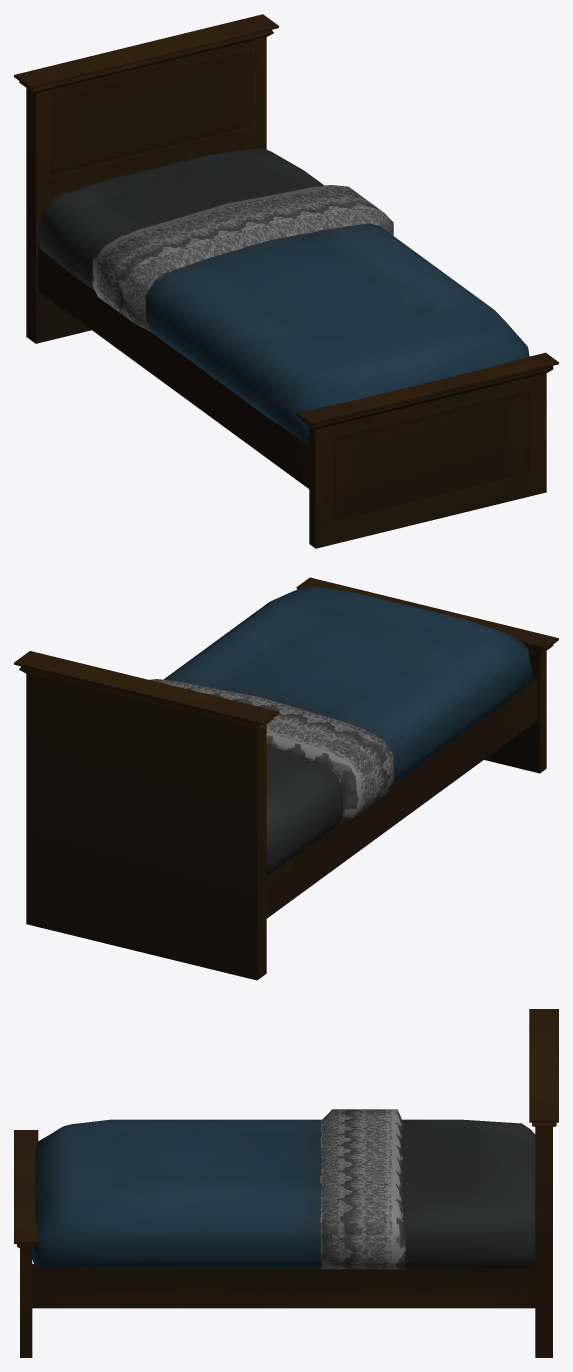
File: Single_Bed_1.fbx
The picture shows the model from 3 angles, top to bottom: view 1: azimuth 30°, elevation 25°; view 2: azimuth 150°, elevation 25°; view 3: azimuth 270°, elevation 25°; orthographic projection. The views are drawn at different scales.
Visible parts, largest first — view 1: Cube.005, Cube.001; view 2: Cube.005, Cube.001; view 3: Cube.001, Cube.005.
Boxes of the visible parts, x1=… form: Cube.005: x1=14, y1=14, x2=558, y2=548; Cube.001: x1=37, y1=148, x2=529, y2=444; Cube.005: x1=14, y1=577, x2=558, y2=980; Cube.001: x1=149, y1=586, x2=533, y2=874; Cube.001: x1=32, y1=1109, x2=535, y2=1269; Cube.005: x1=14, y1=1009, x2=558, y2=1357.
Size of the model in its own units: 213 by 202 by 413.
